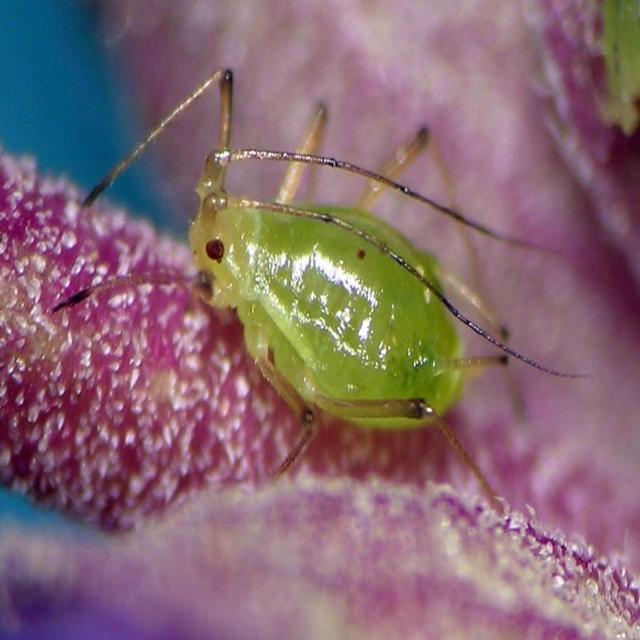Aphid-Grown-: (134, 65, 505, 468)
